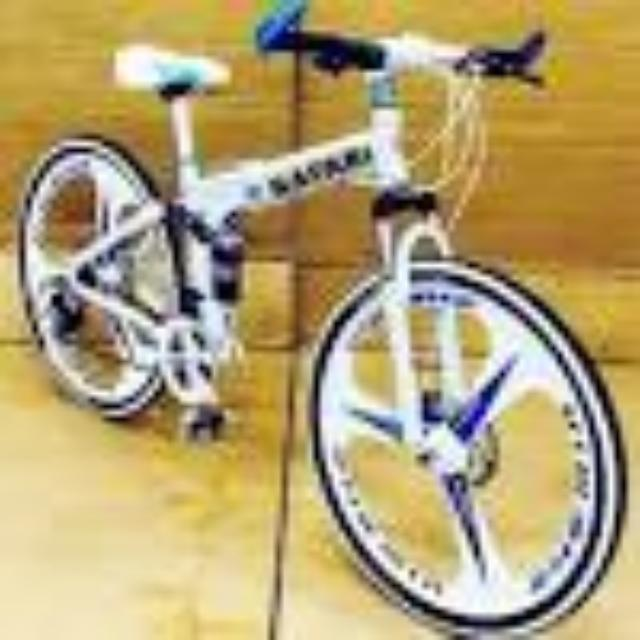obstacle: (10, 7, 638, 640)
